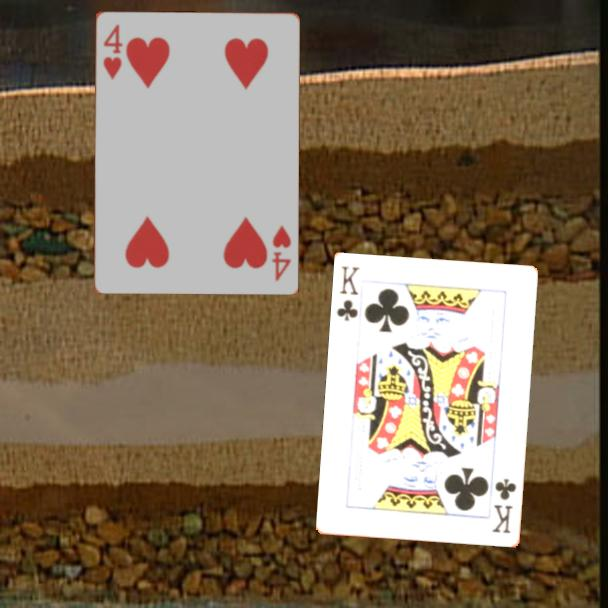c13: (333, 263, 363, 324), (489, 476, 519, 536)
h04: (100, 20, 125, 82), (268, 221, 293, 283)
